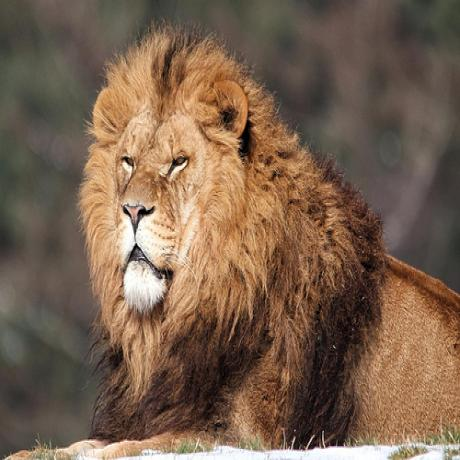Lion: (74, 26, 460, 444)
